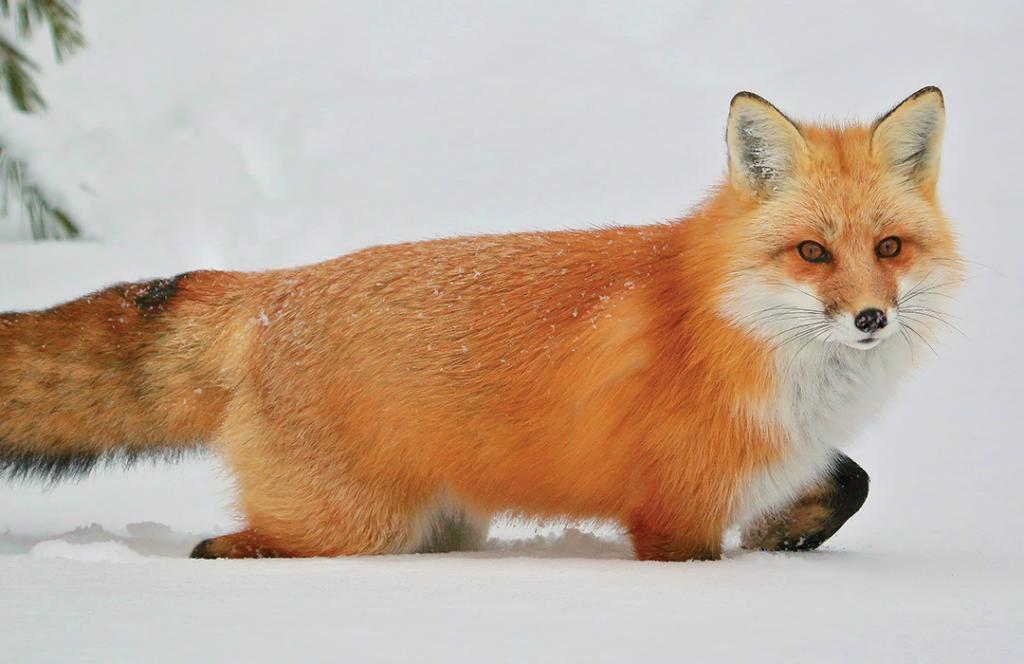fox: (0, 65, 1024, 585)
